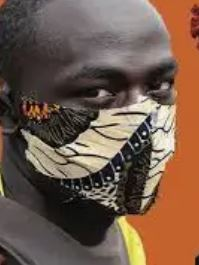with_facemask: (38, 98, 184, 214)
